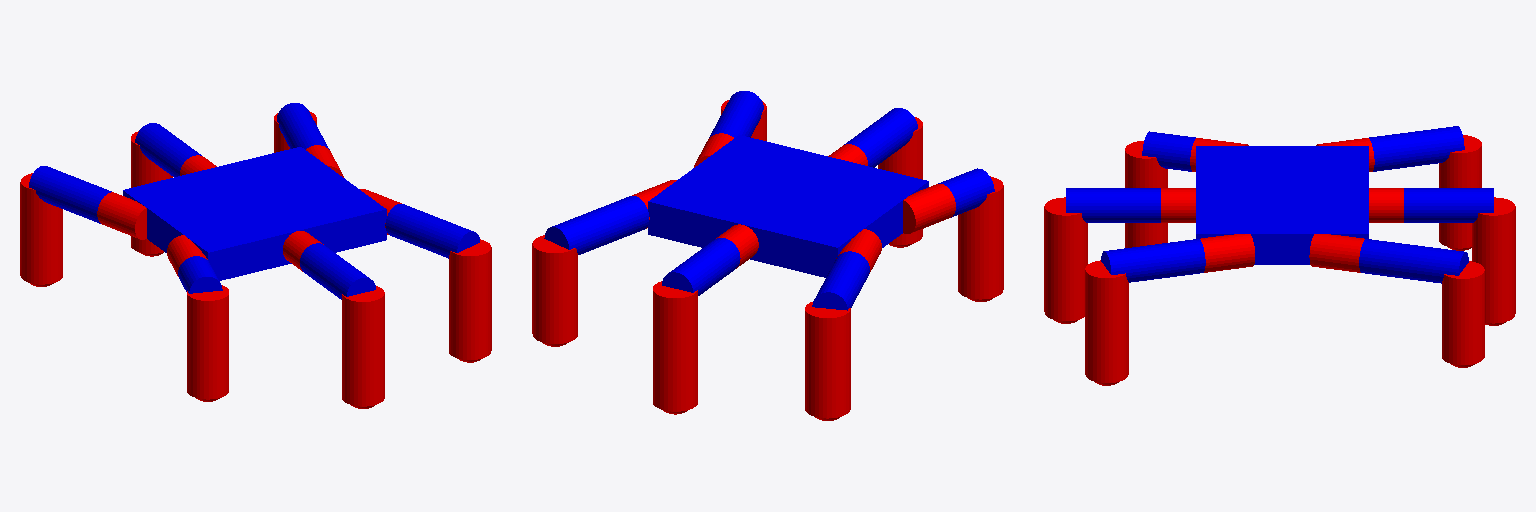
--- What the picture shows (computed from the rendered views, not written in the file) ---
Views: 3 orthographic renders of the robot side by side, from view 1: azimuth 30°, elevation 25°; view 2: azimuth 150°, elevation 25°; view 3: azimuth 270°, elevation 25°.
Model pexod with 19 links and 18 joints (18 revolute), rooted at base_link, posed every joint at zero.
Links seen in each view (by area): view 1: base_link, leg_4_3, leg_3_3, leg_5_3, leg_0_3, leg_3_2, leg_0_2, leg_4_2, leg_1_2, leg_0_1, leg_2_2, leg_1_3 (+3 smaller); view 2: base_link, leg_1_3, leg_0_3, leg_2_3, leg_5_3, leg_2_2, leg_1_2, leg_4_2, leg_0_2, leg_5_1, leg_4_3, leg_3_2 (+3 smaller); view 3: base_link, leg_3_3, leg_4_3, leg_1_3, leg_2_3, leg_2_2, leg_3_2, leg_4_2, leg_0_2, leg_1_2, leg_0_3, leg_5_3 (+5 smaller).
Boxes of the visible links, box(x1,y1,x2,y2) form: base_link: box(123, 147, 386, 280); leg_4_3: box(342, 286, 384, 408); leg_3_3: box(449, 239, 491, 362); leg_5_3: box(187, 285, 228, 401); leg_0_3: box(20, 173, 62, 286); leg_3_2: box(385, 204, 479, 258); leg_0_2: box(29, 166, 111, 223); leg_4_2: box(300, 243, 375, 299); leg_1_2: box(135, 123, 201, 176); leg_0_1: box(97, 192, 146, 239); leg_2_2: box(277, 103, 329, 149); leg_1_3: box(131, 131, 172, 256); base_link: box(648, 135, 928, 277); leg_1_3: box(653, 281, 697, 414); leg_0_3: box(805, 302, 850, 420); leg_2_3: box(532, 235, 577, 346); leg_5_3: box(958, 176, 1003, 301); leg_2_2: box(544, 196, 648, 254); leg_1_2: box(662, 238, 740, 295); leg_4_2: box(844, 108, 917, 167); leg_0_2: box(812, 251, 869, 310); leg_5_1: box(903, 184, 955, 233); leg_4_3: box(878, 117, 922, 247); leg_3_2: box(709, 91, 763, 137); base_link: box(1196, 146, 1368, 264); leg_3_3: box(1085, 260, 1128, 385); leg_4_3: box(1044, 197, 1087, 323); leg_1_3: box(1472, 197, 1515, 325); leg_2_3: box(1442, 261, 1484, 367); leg_2_2: box(1359, 239, 1468, 283); leg_3_2: box(1101, 239, 1205, 282); leg_4_2: box(1066, 188, 1160, 222); leg_0_2: box(1369, 126, 1464, 171); leg_1_2: box(1404, 188, 1493, 222); leg_0_3: box(1439, 135, 1481, 250); leg_5_3: box(1125, 141, 1167, 247).
Size in the robot's own frame: 0.3928 by 0.5427 by 0.1696 metres.
Geometry: primitives only (box / cylinder / sphere), no mesh files.

robot.urdf — pexod:
<?xml version="1.0" ?>
<!-- =================================================================================== -->
<!-- |    This document was autogenerated by xacro from pexod.xacro                    | -->
<!-- |    EDITING THIS FILE BY HAND IS NOT RECOMMENDED                                 | -->
<!-- =================================================================================== -->
<robot name="pexod" xmlns:xacro="http://www.ros.org/wiki/xacro">
  <!-- <xacro:include filename="$(find pexod_description)/urdf/pexod_control.xacro" /> -->
  <!-- MATERIALS -->
  <material name="Blue">
    <color rgba="0 0 1 1"/>
  </material>
  <material name="Red">
    <color rgba="1 0 0 1"/>
  </material>
  <material name="Green">
    <color rgba="0 1 0 1"/>
  </material>
  <material name="Yellow">
    <color rgba="1 1 0 1"/>
  </material>
  <material name="LightGrey">
    <color rgba="0.6 0.6 0.6 1.0"/>
  </material>
  <!-- END OF MATERIALS -->
  <!-- XACRO MACROS FOR VISUALS AND COLLISIONS -->
  <!-- END OF XACRO MACROS -->
  <!-- TORSO -->
  <link name="base_link">
    <visual>
      <origin rpy="0 0 0" xyz="0 0 0"/>
      <geometry>
        <box size="0.24 0.2 0.04"/>
      </geometry>
      <material name="Blue"/>
    </visual>
    <collision>
      <origin rpy="0 0 0" xyz="0 0 0"/>
      <geometry>
        <box size="0.24 0.2 0.04"/>
      </geometry>
    </collision>
    <inertial>
      <!-- CENTER OF MASS -->
      <origin rpy="0 0 0" xyz="0 0 0"/>
      <mass value="1.031"/>
      <!-- box inertia: 1/12*m(y^2+z^2), ... -->
      <inertia ixx="0.00357413333333" ixy="0" ixz="0" iyy="0.00508626666667" iyz="0" izz="0.00838546666667"/>
    </inertial>
  </link>
  <!-- XACRO MACRO FOR LEGS LINKS/JOINTS -->
  <!-- END OF LEG LINKS/JOINTS -->
  <joint name="body_leg_2" type="revolute">
    <parent link="base_link"/>
    <child link="leg_2_1"/>
    <limit effort="30.0" lower="-1.57079632679" upper="1.57079632679" velocity="7.0"/>
    <origin rpy="0 0 -0.3" xyz="0.11 0.04 0"/>
    <!-- <xacro:if value="${index == 5 or index == 4 or index == 3}">
                <axis xyz="0 0 1"/>
            </xacro:if>
            <xacro:if value="${index == 2 or index == 1 or index == 0}"> -->
    <axis xyz="0 0 1"/>
    <!-- </xacro:if> -->
    <dynamics damping="0.0"/>
  </joint>
  <link name="leg_2_1">
    <visual>
      <origin rpy="1.57079632679 0 0" xyz="0.01 0.03 0"/>
      <geometry>
        <cylinder length="0.06" radius="0.02"/>
      </geometry>
      <material name="Red"/>
    </visual>
    <collision>
      <origin rpy="1.57079632679 0 0" xyz="0.01 0.03 0"/>
      <geometry>
        <box size="0.02 0.02 0.06"/>
      </geometry>
    </collision>
    <inertial>
      <!-- CENTER OF MASS -->
      <origin rpy="1.57079632679 0 0" xyz="0.01 0.03 0"/>
      <mass value="0.02"/>
      <!-- box inertia: 1/12*m(y^2+z^2), ... -->
      <inertia ixx="6.66666666667e-06" ixy="0" ixz="0" iyy="6.66666666667e-06" iyz="0" izz="1.33333333333e-06"/>
    </inertial>
  </link>
  <joint name="leg_2_1_2" type="revolute">
    <parent link="leg_2_1"/>
    <child link="leg_2_2"/>
    <limit effort="30.0" lower="-0.78539816339" upper="0.78539816339" velocity="7.0"/>
    <origin rpy="0 0 0" xyz="0 0.06 0"/>
    <axis xyz="1 0 0"/>
    <dynamics damping="0.0"/>
  </joint>
  <link name="leg_2_2">
    <visual>
      <origin rpy="1.57079632679 0 0" xyz="0.01 0.059952723512 0"/>
      <geometry>
        <cylinder length="0.119905447024" radius="0.02"/>
      </geometry>
      <material name="Blue"/>
    </visual>
    <collision>
      <origin rpy="1.57079632679 0 0" xyz="0.01 0.059952723512 0"/>
      <geometry>
        <box size="0.02 0.02 0.119905447024"/>
      </geometry>
    </collision>
    <inertial>
      <!-- CENTER OF MASS -->
      <origin rpy="1.57079632679 0 0" xyz="0.01 0.059952723512 0"/>
      <mass value="0.184"/>
      <!-- box inertia: 1/12*m(y^2+z^2), ... -->
      <inertia ixx="0.000226585515466" ixy="0" ixz="0" iyy="0.000226585515466" iyz="0" izz="1.22666666667e-05"/>
    </inertial>
  </link>
  <joint name="leg_2_2_3" type="revolute">
    <parent link="leg_2_2"/>
    <child link="leg_2_3"/>
    <limit effort="30.0" lower="-0.78539816339" upper="0.78539816339" velocity="7.0"/>
    <origin rpy="-1.57079632679 0 0" xyz="0 0.119905447024 0"/>
    <axis xyz="-1 0 0"/>
    <dynamics damping="0.0"/>
  </joint>
  <link name="leg_2_3">
    <visual>
      <origin rpy="1.57079632679 0 0" xyz="0.0125 0.0549655989975 0"/>
      <geometry>
        <cylinder length="0.109931197995" radius="0.025"/>
      </geometry>
      <material name="Red"/>
    </visual>
    <visual>
      <origin rpy="1.57079632679 0 0" xyz="0.0125 0.097431197995 0"/>
      <geometry>
        <sphere radius="0.025"/>
      </geometry>
      <material name="Red"/>
    </visual>
    <collision>
      <origin rpy="1.57079632679 0 0" xyz="0.0125 0.0549655989975 0"/>
      <geometry>
        <box size="0.025 0.025 0.109931197995"/>
      </geometry>
    </collision>
    <collision>
      <origin rpy="1.57079632679 0 0" xyz="0.0125 0.097431197995 0"/>
      <geometry>
        <sphere radius="0.025"/>
      </geometry>
      <material name="Red"/>
    </collision>
    <inertial>
      <!-- CENTER OF MASS -->
      <origin rpy="1.57079632679 0 0" xyz="0.0125 0.0549655989975 0"/>
      <mass value="0.04"/>
      <!-- box inertia: 1/12*m(y^2+z^2), ... -->
      <inertia ixx="4.23662276421e-05" ixy="0" ixz="0" iyy="4.23662276421e-05" iyz="0" izz="4.16666666667e-06"/>
    </inertial>
  </link>
  <joint name="body_leg_3" type="revolute">
    <parent link="base_link"/>
    <child link="leg_3_1"/>
    <limit effort="30.0" lower="-1.57079632679" upper="1.57079632679" velocity="7.0"/>
    <origin rpy="0 0 0.3" xyz="0.11 -0.04 0"/>
    <!-- <xacro:if value="${index == 5 or index == 4 or index == 3}">
                <axis xyz="0 0 1"/>
            </xacro:if>
            <xacro:if value="${index == 2 or index == 1 or index == 0}"> -->
    <axis xyz="0 0 1"/>
    <!-- </xacro:if> -->
    <dynamics damping="0.0"/>
  </joint>
  <link name="leg_3_1">
    <visual>
      <origin rpy="1.57079632679 0 0" xyz="0.01 -0.03 0"/>
      <geometry>
        <cylinder length="0.06" radius="0.02"/>
      </geometry>
      <material name="Red"/>
    </visual>
    <collision>
      <origin rpy="1.57079632679 0 0" xyz="0.01 -0.03 0"/>
      <geometry>
        <box size="0.02 0.02 0.06"/>
      </geometry>
    </collision>
    <inertial>
      <!-- CENTER OF MASS -->
      <origin rpy="1.57079632679 0 0" xyz="0.01 -0.03 0"/>
      <mass value="0.02"/>
      <!-- box inertia: 1/12*m(y^2+z^2), ... -->
      <inertia ixx="6.66666666667e-06" ixy="0" ixz="0" iyy="6.66666666667e-06" iyz="0" izz="1.33333333333e-06"/>
    </inertial>
  </link>
  <joint name="leg_3_1_2" type="revolute">
    <parent link="leg_3_1"/>
    <child link="leg_3_2"/>
    <limit effort="30.0" lower="-0.78539816339" upper="0.78539816339" velocity="7.0"/>
    <origin rpy="0 0 0" xyz="0 -0.06 0"/>
    <axis xyz="-1 0 0"/>
    <dynamics damping="0.0"/>
  </joint>
  <link name="leg_3_2">
    <visual>
      <origin rpy="1.57079632679 0 0" xyz="0.01 -0.056815650622 0"/>
      <geometry>
        <cylinder length="0.113631301244" radius="0.02"/>
      </geometry>
      <material name="Blue"/>
    </visual>
    <collision>
      <origin rpy="1.57079632679 0 0" xyz="0.01 -0.056815650622 0"/>
      <geometry>
        <box size="0.02 0.02 0.113631301244"/>
      </geometry>
    </collision>
    <inertial>
      <!-- CENTER OF MASS -->
      <origin rpy="1.57079632679 0 0" xyz="0.01 -0.056815650622 0"/>
      <mass value="0.184"/>
      <!-- box inertia: 1/12*m(y^2+z^2), ... -->
      <inertia ixx="0.000204118446877" ixy="0" ixz="0" iyy="0.000204118446877" iyz="0" izz="1.22666666667e-05"/>
    </inertial>
  </link>
  <joint name="leg_3_2_3" type="revolute">
    <parent link="leg_3_2"/>
    <child link="leg_3_3"/>
    <limit effort="30.0" lower="-0.78539816339" upper="0.78539816339" velocity="7.0"/>
    <origin rpy="1.57079632679 0 0" xyz="0 -0.113631301244 0"/>
    <axis xyz="1 0 0"/>
    <dynamics damping="0.0"/>
  </joint>
  <link name="leg_3_3">
    <visual>
      <origin rpy="1.57079632679 0 0" xyz="0.0125 -0.066753286298 0"/>
      <geometry>
        <cylinder length="0.133506572596" radius="0.025"/>
      </geometry>
      <material name="Red"/>
    </visual>
    <visual>
      <origin rpy="1.57079632679 0 0" xyz="0.0125 -0.121006572596 0"/>
      <geometry>
        <sphere radius="0.025"/>
      </geometry>
      <material name="Red"/>
    </visual>
    <collision>
      <origin rpy="1.57079632679 0 0" xyz="0.0125 -0.066753286298 0"/>
      <geometry>
        <box size="0.025 0.025 0.133506572596"/>
      </geometry>
    </collision>
    <collision>
      <origin rpy="1.57079632679 0 0" xyz="0.0125 -0.121006572596 0"/>
      <geometry>
        <sphere radius="0.025"/>
      </geometry>
      <material name="Red"/>
    </collision>
    <inertial>
      <!-- CENTER OF MASS -->
      <origin rpy="1.57079632679 0 0" xyz="0.0125 -0.066753286298 0"/>
      <mass value="0.04"/>
      <!-- box inertia: 1/12*m(y^2+z^2), ... -->
      <inertia ixx="6.14966830878e-05" ixy="0" ixz="0" iyy="6.14966830878e-05" iyz="0" izz="4.16666666667e-06"/>
    </inertial>
  </link>
  <joint name="body_leg_0" type="revolute">
    <parent link="base_link"/>
    <child link="leg_0_1"/>
    <limit effort="30.0" lower="-1.57079632679" upper="1.57079632679" velocity="7.0"/>
    <origin rpy="0 0 0.3" xyz="-0.13 0.04 0"/>
    <!-- <xacro:if value="${index == 5 or index == 4 or index == 3}">
                <axis xyz="0 0 1"/>
            </xacro:if>
            <xacro:if value="${index == 2 or index == 1 or index == 0}"> -->
    <axis xyz="0 0 1"/>
    <!-- </xacro:if> -->
    <dynamics damping="0.0"/>
  </joint>
  <link name="leg_0_1">
    <visual>
      <origin rpy="1.57079632679 0 0" xyz="0.01 0.03 0"/>
      <geometry>
        <cylinder length="0.06" radius="0.02"/>
      </geometry>
      <material name="Red"/>
    </visual>
    <collision>
      <origin rpy="1.57079632679 0 0" xyz="0.01 0.03 0"/>
      <geometry>
        <box size="0.02 0.02 0.06"/>
      </geometry>
    </collision>
    <inertial>
      <!-- CENTER OF MASS -->
      <origin rpy="1.57079632679 0 0" xyz="0.01 0.03 0"/>
      <mass value="0.02"/>
      <!-- box inertia: 1/12*m(y^2+z^2), ... -->
      <inertia ixx="6.66666666667e-06" ixy="0" ixz="0" iyy="6.66666666667e-06" iyz="0" izz="1.33333333333e-06"/>
    </inertial>
  </link>
  <joint name="leg_0_1_2" type="revolute">
    <parent link="leg_0_1"/>
    <child link="leg_0_2"/>
    <limit effort="30.0" lower="-0.78539816339" upper="0.78539816339" velocity="7.0"/>
    <origin rpy="0 0 0" xyz="0 0.06 0"/>
    <axis xyz="1 0 0"/>
    <dynamics damping="0.0"/>
  </joint>
  <link name="leg_0_2">
    <visual>
      <origin rpy="1.57079632679 0 0" xyz="0.01 0.0543458289955 0"/>
      <geometry>
        <cylinder length="0.108691657991" radius="0.02"/>
      </geometry>
      <material name="Blue"/>
    </visual>
    <collision>
      <origin rpy="1.57079632679 0 0" xyz="0.01 0.0543458289955 0"/>
      <geometry>
        <box size="0.02 0.02 0.108691657991"/>
      </geometry>
    </collision>
    <inertial>
      <!-- CENTER OF MASS -->
      <origin rpy="1.57079632679 0 0" xyz="0.01 0.0543458289955 0"/>
      <mass value="0.184"/>
      <!-- box inertia: 1/12*m(y^2+z^2), ... -->
      <inertia ixx="0.000187279439925" ixy="0" ixz="0" iyy="0.000187279439925" iyz="0" izz="1.22666666667e-05"/>
    </inertial>
  </link>
  <joint name="leg_0_2_3" type="revolute">
    <parent link="leg_0_2"/>
    <child link="leg_0_3"/>
    <limit effort="30.0" lower="-0.78539816339" upper="0.78539816339" velocity="7.0"/>
    <origin rpy="-1.57079632679 0 0" xyz="0 0.108691657991 0"/>
    <axis xyz="-1 0 0"/>
    <dynamics damping="0.0"/>
  </joint>
  <link name="leg_0_3">
    <visual>
      <origin rpy="1.57079632679 0 0" xyz="0.0125 0.0605977804665 0"/>
      <geometry>
        <cylinder length="0.121195560933" radius="0.025"/>
      </geometry>
      <material name="Red"/>
    </visual>
    <visual>
      <origin rpy="1.57079632679 0 0" xyz="0.0125 0.108695560933 0"/>
      <geometry>
        <sphere radius="0.025"/>
      </geometry>
      <material name="Red"/>
    </visual>
    <collision>
      <origin rpy="1.57079632679 0 0" xyz="0.0125 0.0605977804665 0"/>
      <geometry>
        <box size="0.025 0.025 0.121195560933"/>
      </geometry>
    </collision>
    <collision>
      <origin rpy="1.57079632679 0 0" xyz="0.0125 0.108695560933 0"/>
      <geometry>
        <sphere radius="0.025"/>
      </geometry>
      <material name="Red"/>
    </collision>
    <inertial>
      <!-- CENTER OF MASS -->
      <origin rpy="1.57079632679 0 0" xyz="0.0125 0.0605977804665 0"/>
      <mass value="0.04"/>
      <!-- box inertia: 1/12*m(y^2+z^2), ... -->
      <inertia ixx="5.10445466329e-05" ixy="0" ixz="0" iyy="5.10445466329e-05" iyz="0" izz="4.16666666667e-06"/>
    </inertial>
  </link>
  <joint name="body_leg_5" type="revolute">
    <parent link="base_link"/>
    <child link="leg_5_1"/>
    <limit effort="30.0" lower="-1.57079632679" upper="1.57079632679" velocity="7.0"/>
    <origin rpy="0 0 -0.3" xyz="-0.13 -0.04 0"/>
    <!-- <xacro:if value="${index == 5 or index == 4 or index == 3}">
                <axis xyz="0 0 1"/>
            </xacro:if>
            <xacro:if value="${index == 2 or index == 1 or index == 0}"> -->
    <axis xyz="0 0 1"/>
    <!-- </xacro:if> -->
    <dynamics damping="0.0"/>
  </joint>
  <link name="leg_5_1">
    <visual>
      <origin rpy="1.57079632679 0 0" xyz="0.01 -0.03 0"/>
      <geometry>
        <cylinder length="0.06" radius="0.02"/>
      </geometry>
      <material name="Red"/>
    </visual>
    <collision>
      <origin rpy="1.57079632679 0 0" xyz="0.01 -0.03 0"/>
      <geometry>
        <box size="0.02 0.02 0.06"/>
      </geometry>
    </collision>
    <inertial>
      <!-- CENTER OF MASS -->
      <origin rpy="1.57079632679 0 0" xyz="0.01 -0.03 0"/>
      <mass value="0.02"/>
      <!-- box inertia: 1/12*m(y^2+z^2), ... -->
      <inertia ixx="6.66666666667e-06" ixy="0" ixz="0" iyy="6.66666666667e-06" iyz="0" izz="1.33333333333e-06"/>
    </inertial>
  </link>
  <joint name="leg_5_1_2" type="revolute">
    <parent link="leg_5_1"/>
    <child link="leg_5_2"/>
    <limit effort="30.0" lower="-0.78539816339" upper="0.78539816339" velocity="7.0"/>
    <origin rpy="0 0 0" xyz="0 -0.06 0"/>
    <axis xyz="-1 0 0"/>
    <dynamics damping="0.0"/>
  </joint>
  <link name="leg_5_2">
    <visual>
      <origin rpy="1.57079632679 0 0" xyz="0.01 -0.0289223520336 0"/>
      <geometry>
        <cylinder length="0.0578447040672" radius="0.02"/>
      </geometry>
      <material name="Blue"/>
    </visual>
    <collision>
      <origin rpy="1.57079632679 0 0" xyz="0.01 -0.0289223520336 0"/>
      <geometry>
        <box size="0.02 0.02 0.0578447040672"/>
      </geometry>
    </collision>
    <inertial>
      <!-- CENTER OF MASS -->
      <origin rpy="1.57079632679 0 0" xyz="0.01 -0.0289223520336 0"/>
      <mass value="0.184"/>
      <!-- box inertia: 1/12*m(y^2+z^2), ... -->
      <inertia ixx="5.74388167589e-05" ixy="0" ixz="0" iyy="5.74388167589e-05" iyz="0" izz="1.22666666667e-05"/>
    </inertial>
  </link>
  <joint name="leg_5_2_3" type="revolute">
    <parent link="leg_5_2"/>
    <child link="leg_5_3"/>
    <limit effort="30.0" lower="-0.78539816339" upper="0.78539816339" velocity="7.0"/>
    <origin rpy="1.57079632679 0 0" xyz="0 -0.0578447040672 0"/>
    <axis xyz="1 0 0"/>
    <dynamics damping="0.0"/>
  </joint>
  <link name="leg_5_3">
    <visual>
      <origin rpy="1.57079632679 0 0" xyz="0.0125 -0.0633217296855 0"/>
      <geometry>
        <cylinder length="0.126643459371" radius="0.025"/>
      </geometry>
      <material name="Red"/>
    </visual>
    <visual>
      <origin rpy="1.57079632679 0 0" xyz="0.0125 -0.114143459371 0"/>
      <geometry>
        <sphere radius="0.025"/>
      </geometry>
      <material name="Red"/>
    </visual>
    <collision>
      <origin rpy="1.57079632679 0 0" xyz="0.0125 -0.0633217296855 0"/>
      <geometry>
        <box size="0.025 0.025 0.126643459371"/>
      </geometry>
    </collision>
    <collision>
      <origin rpy="1.57079632679 0 0" xyz="0.0125 -0.114143459371 0"/>
      <geometry>
        <sphere radius="0.025"/>
      </geometry>
      <material name="Red"/>
    </collision>
    <inertial>
      <!-- CENTER OF MASS -->
      <origin rpy="1.57079632679 0 0" xyz="0.0125 -0.0633217296855 0"/>
      <mass value="0.04"/>
      <!-- box inertia: 1/12*m(y^2+z^2), ... -->
      <inertia ixx="5.55452193382e-05" ixy="0" ixz="0" iyy="5.55452193382e-05" iyz="0" izz="4.16666666667e-06"/>
    </inertial>
  </link>
  <joint name="body_leg_1" type="revolute">
    <parent link="base_link"/>
    <child link="leg_1_1"/>
    <limit effort="30.0" lower="-1.57079632679" upper="1.57079632679" velocity="7.0"/>
    <origin rpy="0 0 0" xyz="-0.01 0.08 0"/>
    <!-- <xacro:if value="${index == 5 or index == 4 or index == 3}">
                <axis xyz="0 0 1"/>
            </xacro:if>
            <xacro:if value="${index == 2 or index == 1 or index == 0}"> -->
    <axis xyz="0 0 1"/>
    <!-- </xacro:if> -->
    <dynamics damping="0.0"/>
  </joint>
  <link name="leg_1_1">
    <visual>
      <origin rpy="1.57079632679 0 0" xyz="0.01 0.03 0"/>
      <geometry>
        <cylinder length="0.06" radius="0.02"/>
      </geometry>
      <material name="Red"/>
    </visual>
    <collision>
      <origin rpy="1.57079632679 0 0" xyz="0.01 0.03 0"/>
      <geometry>
        <box size="0.02 0.02 0.06"/>
      </geometry>
    </collision>
    <inertial>
      <!-- CENTER OF MASS -->
      <origin rpy="1.57079632679 0 0" xyz="0.01 0.03 0"/>
      <mass value="0.02"/>
      <!-- box inertia: 1/12*m(y^2+z^2), ... -->
      <inertia ixx="6.66666666667e-06" ixy="0" ixz="0" iyy="6.66666666667e-06" iyz="0" izz="1.33333333333e-06"/>
    </inertial>
  </link>
  <joint name="leg_1_1_2" type="revolute">
    <parent link="leg_1_1"/>
    <child link="leg_1_2"/>
    <limit effort="30.0" lower="-0.78539816339" upper="0.78539816339" velocity="7.0"/>
    <origin rpy="0 0 0" xyz="0 0.06 0"/>
    <axis xyz="1 0 0"/>
    <dynamics damping="0.0"/>
  </joint>
  <link name="leg_1_2">
    <visual>
      <origin rpy="1.57079632679 0 0" xyz="0.01 0.051781830317 0"/>
      <geometry>
        <cylinder length="0.103563660634" radius="0.02"/>
      </geometry>
      <material name="Blue"/>
    </visual>
    <collision>
      <origin rpy="1.57079632679 0 0" xyz="0.01 0.051781830317 0"/>
      <geometry>
        <box size="0.02 0.02 0.103563660634"/>
      </geometry>
    </collision>
    <inertial>
      <!-- CENTER OF MASS -->
      <origin rpy="1.57079632679 0 0" xyz="0.01 0.051781830317 0"/>
      <mass value="0.184"/>
      <!-- box inertia: 1/12*m(y^2+z^2), ... -->
      <inertia ixx="0.000170589954327" ixy="0" ixz="0" iyy="0.000170589954327" iyz="0" izz="1.22666666667e-05"/>
    </inertial>
  </link>
  <joint name="leg_1_2_3" type="revolute">
    <parent link="leg_1_2"/>
    <child link="leg_1_3"/>
    <limit effort="30.0" lower="-0.78539816339" upper="0.78539816339" velocity="7.0"/>
    <origin rpy="-1.57079632679 0 0" xyz="0 0.103563660634 0"/>
    <axis xyz="-1 0 0"/>
    <dynamics damping="0.0"/>
  </joint>
  <link name="leg_1_3">
    <visual>
      <origin rpy="1.57079632679 0 0" xyz="0.0125 0.068544816599 0"/>
      <geometry>
        <cylinder length="0.137089633198" radius="0.025"/>
      </geometry>
      <material name="Red"/>
    </visual>
    <visual>
      <origin rpy="1.57079632679 0 0" xyz="0.0125 0.124589633198 0"/>
      <geometry>
        <sphere radius="0.025"/>
      </geometry>
      <material name="Red"/>
    </visual>
    <collision>
      <origin rpy="1.57079632679 0 0" xyz="0.0125 0.068544816599 0"/>
      <geometry>
        <box size="0.025 0.025 0.137089633198"/>
      </geometry>
    </collision>
    <collision>
      <origin rpy="1.57079632679 0 0" xyz="0.0125 0.124589633198 0"/>
      <geometry>
        <sphere radius="0.025"/>
      </geometry>
      <material name="Red"/>
    </collision>
    <inertial>
      <!-- CENTER OF MASS -->
      <origin rpy="1.57079632679 0 0" xyz="0.0125 0.068544816599 0"/>
      <mass value="0.04"/>
      <!-- box inertia: 1/12*m(y^2+z^2), ... -->
      <inertia ixx="6.47285584345e-05" ixy="0" ixz="0" iyy="6.47285584345e-05" iyz="0" izz="4.16666666667e-06"/>
    </inertial>
  </link>
  <joint name="body_leg_4" type="revolute">
    <parent link="base_link"/>
    <child link="leg_4_1"/>
    <limit effort="30.0" lower="-1.57079632679" upper="1.57079632679" velocity="7.0"/>
    <origin rpy="0 0 0" xyz="-0.01 -0.08 0"/>
    <!-- <xacro:if value="${index == 5 or index == 4 or index == 3}">
                <axis xyz="0 0 1"/>
            </xacro:if>
            <xacro:if value="${index == 2 or index == 1 or index == 0}"> -->
    <axis xyz="0 0 1"/>
    <!-- </xacro:if> -->
    <dynamics damping="0.0"/>
  </joint>
  <link name="leg_4_1">
    <visual>
      <origin rpy="1.57079632679 0 0" xyz="0.01 -0.03 0"/>
      <geometry>
        <cylinder length="0.06" radius="0.02"/>
      </geometry>
      <material name="Red"/>
    </visual>
    <collision>
      <origin rpy="1.57079632679 0 0" xyz="0.01 -0.03 0"/>
      <geometry>
        <box size="0.02 0.02 0.06"/>
      </geometry>
    </collision>
    <inertial>
      <!-- CENTER OF MASS -->
      <origin rpy="1.57079632679 0 0" xyz="0.01 -0.03 0"/>
      <mass value="0.02"/>
      <!-- box inertia: 1/12*m(y^2+z^2), ... -->
      <inertia ixx="6.66666666667e-06" ixy="0" ixz="0" iyy="6.66666666667e-06" iyz="0" izz="1.33333333333e-06"/>
    </inertial>
  </link>
  <joint name="leg_4_1_2" type="revolute">
    <parent link="leg_4_1"/>
    <child link="leg_4_2"/>
    <limit effort="30.0" lower="-0.78539816339" upper="0.78539816339" velocity="7.0"/>
    <origin rpy="0 0 0" xyz="0 -0.06 0"/>
    <axis xyz="-1 0 0"/>
    <dynamics damping="0.0"/>
  </joint>
  <link name="leg_4_2">
    <visual>
      <origin rpy="1.57079632679 0 0" xyz="0.01 -0.0545788311805 0"/>
      <geometry>
        <cylinder length="0.109157662361" radius="0.02"/>
      </geometry>
      <material name="Blue"/>
    </visual>
    <collision>
      <origin rpy="1.57079632679 0 0" xyz="0.01 -0.0545788311805 0"/>
      <geometry>
        <box size="0.02 0.02 0.109157662361"/>
      </geometry>
    </collision>
    <inertial>
      <!-- CENTER OF MASS -->
      <origin rpy="1.57079632679 0 0" xyz="0.01 -0.0545788311805 0"/>
      <mass value="0.184"/>
      <!-- box inertia: 1/12*m(y^2+z^2), ... -->
      <inertia ixx="0.000188836060532" ixy="0" ixz="0" iyy="0.000188836060532" iyz="0" izz="1.22666666667e-05"/>
    </inertial>
  </link>
  <joint name="leg_4_2_3" type="revolute">
    <parent link="leg_4_2"/>
    <child link="leg_4_3"/>
    <limit effort="30.0" lower="-0.78539816339" upper="0.78539816339" velocity="7.0"/>
    <origin rpy="1.57079632679 0 0" xyz="0 -0.109157662361 0"/>
    <axis xyz="1 0 0"/>
    <dynamics damping="0.0"/>
  </joint>
  <link name="leg_4_3">
    <visual>
      <origin rpy="1.57079632679 0 0" xyz="0.0125 -0.0672374016105 0"/>
      <geometry>
        <cylinder length="0.134474803221" radius="0.025"/>
      </geometry>
      <material name="Red"/>
    </visual>
    <visual>
      <origin rpy="1.57079632679 0 0" xyz="0.0125 -0.121974803221 0"/>
      <geometry>
        <sphere radius="0.025"/>
      </geometry>
      <material name="Red"/>
    </visual>
    <collision>
      <origin rpy="1.57079632679 0 0" xyz="0.0125 -0.0672374016105 0"/>
      <geometry>
        <box size="0.025 0.025 0.134474803221"/>
      </geometry>
    </collision>
    <collision>
      <origin rpy="1.57079632679 0 0" xyz="0.0125 -0.121974803221 0"/>
      <geometry>
        <sphere radius="0.025"/>
      </geometry>
      <material name="Red"/>
    </collision>
    <inertial>
      <!-- CENTER OF MASS -->
      <origin rpy="1.57079632679 0 0" xyz="0.0125 -0.0672374016105 0"/>
      <mass value="0.04"/>
      <!-- box inertia: 1/12*m(y^2+z^2), ... -->
      <inertia ixx="6.23615756711e-05" ixy="0" ixz="0" iyy="6.23615756711e-05" iyz="0" izz="4.16666666667e-06"/>
    </inertial>
  </link>
  <!-- END OF LEG LINKS/JOINTS -->
</robot>
